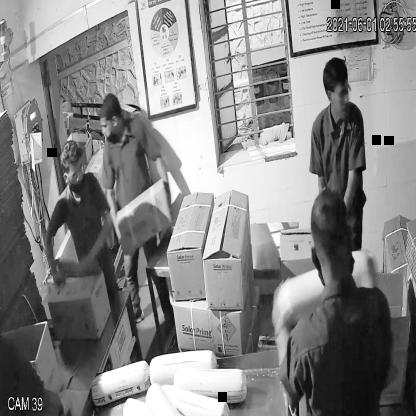goggles: (321, 83, 353, 106), (60, 162, 88, 187)
